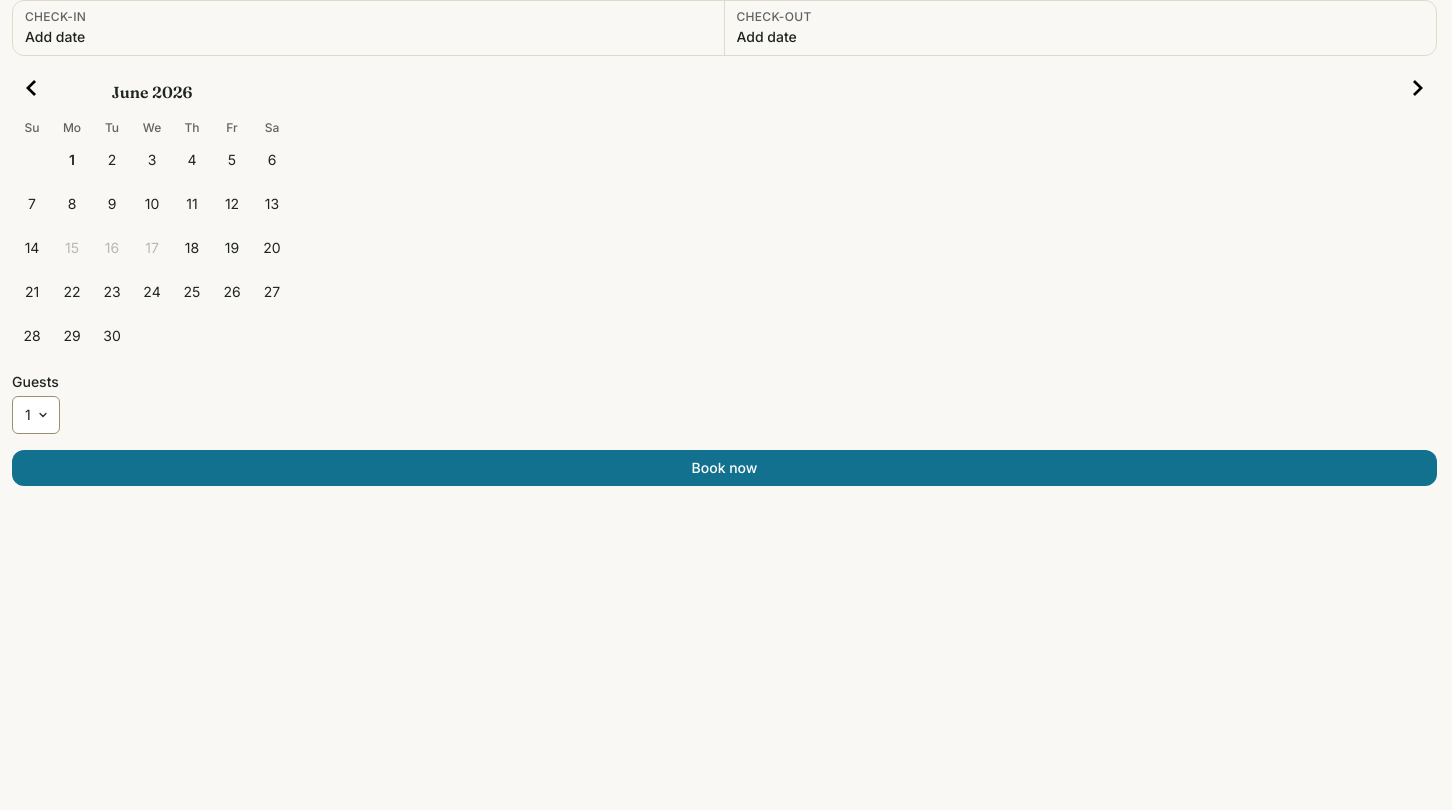
Test: BookingForm › explains why a range spanning booked nights is rejected
Click the button "12".
click(232, 204)  # box [212,184,252,224]
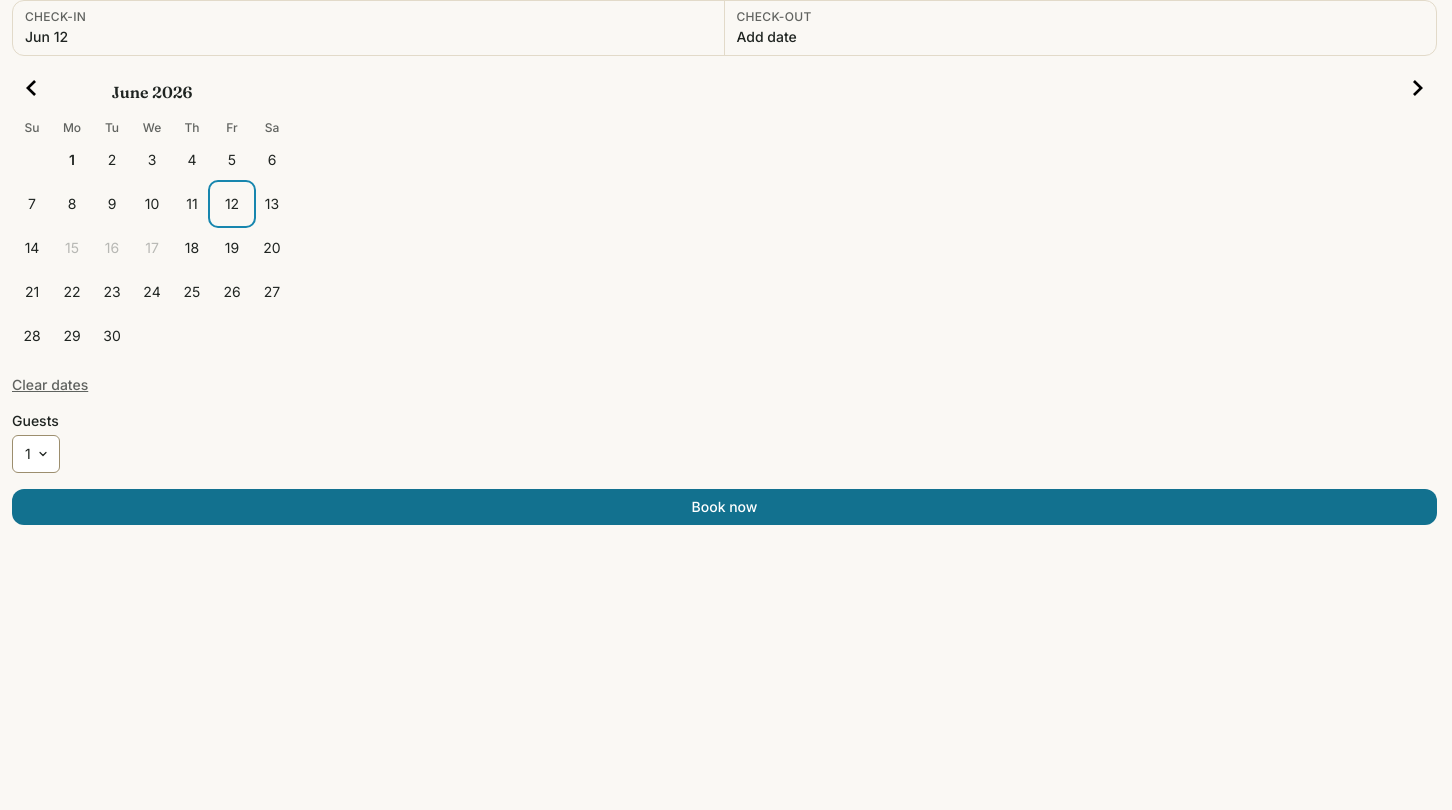
Click the button "20".
click(272, 248)  # box [252,228,292,268]
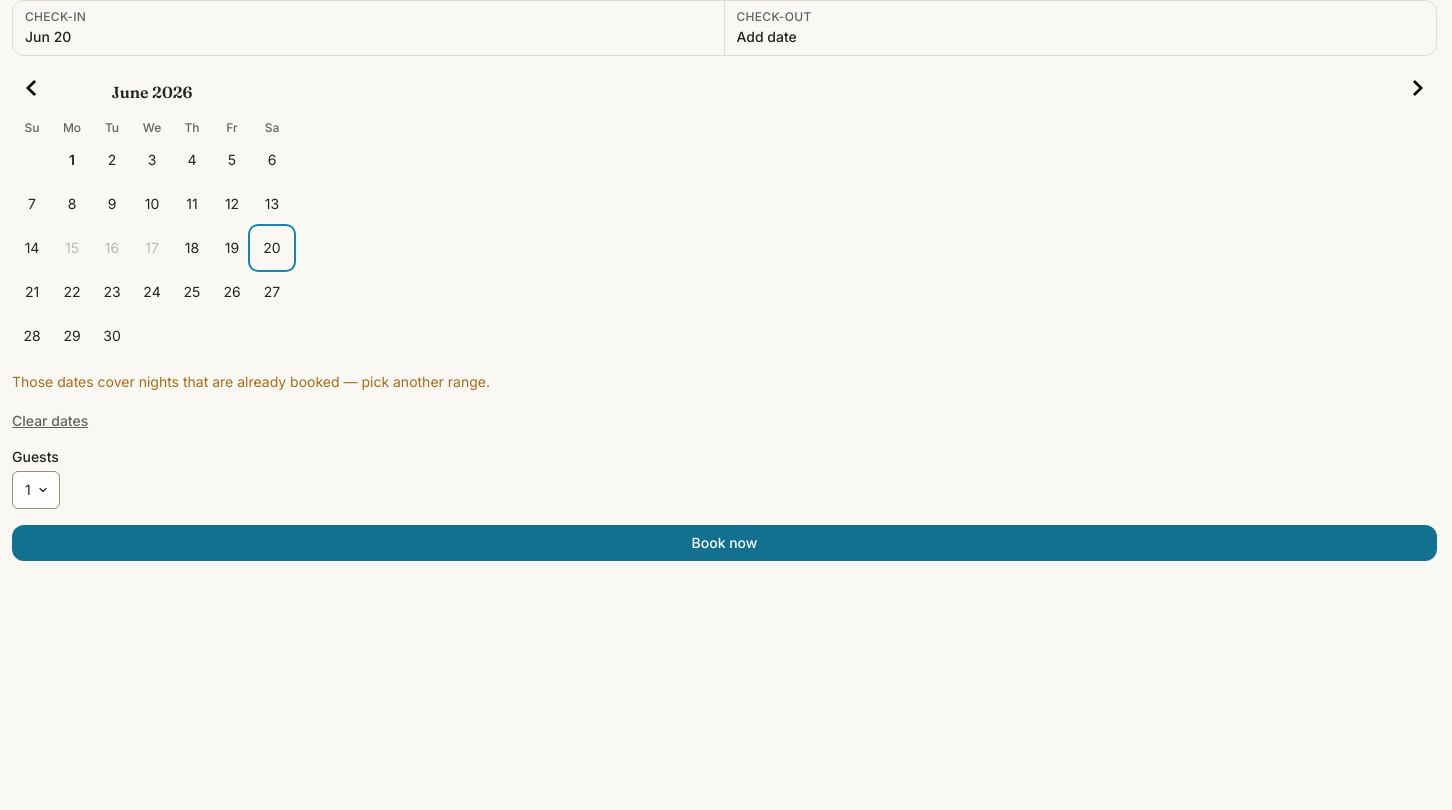
Check: the text "Those dates cover nights that are already booked — pick another range." is shown, box [12,373,490,390]
